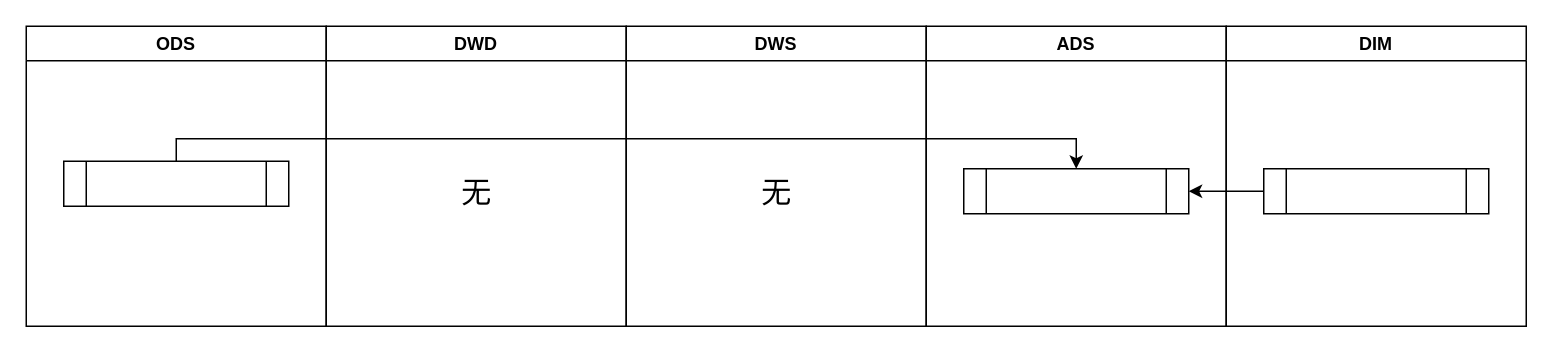
Image size: 1553x353. Some labels were removed from this diagram. The shapes that lost their labels are listed below. From the top down, each one's centre as x and y in pixels, then its label:
[175,183]: t_ods_h5_activity_d
[1075,190]: t_ads_h5_activity_d
[1375,190]: t_dim_date
